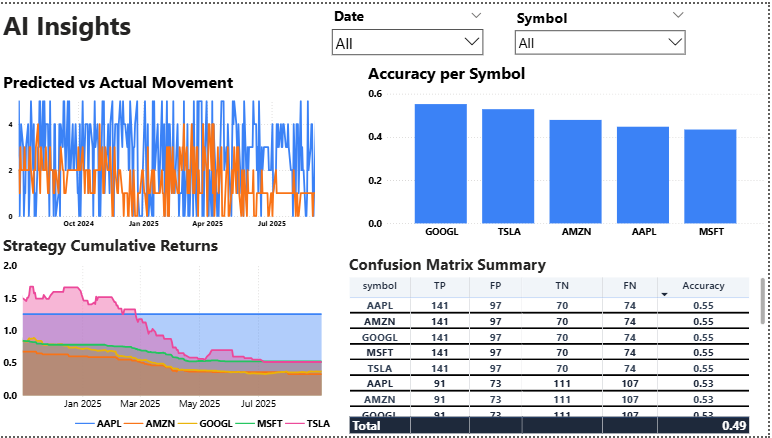

The page's visual inventory and layout, read from the dashboard file:
{"tool":"powerbi","page":{"name":"AI Insights Page","canvas":[1280,720],"ordinal":1},"visuals":[{"type":"textbox","box":[0,0,256,112],"z":0,"group":"g1"},{"type":"clusteredColumnChart","title":"Accuracy per Symbol","fields":{"Category":["AI_Metrics.Symbol"],"Y":["AI_Metrics.Avg Accuracy"]},"box":[608,96,672,304],"z":1000,"group":"g1"},{"type":"areaChart","title":"Strategy Cumulative Returns","fields":{"Category":["financial_ai_ready.date.Variation.Date Hierarchy.Year","financial_ai_ready.date.Variation.Date Hierarchy.Quarter","financial_ai_ready.date.Variation.Date Hierarchy.Month","financial_ai_ready.date.Variation.Date Hierarchy.Day"],"Series":["financial_ai_ready.symbol"],"Y":["Avg(financial_ai_ready.strategy_cumulative)"]},"box":[0,384,560,336],"z":2000,"group":"g1"},{"type":"tableEx","title":"Confusion Matrix Summary","fields":{"Values":["financial_ai_ready.symbol","AI_Metrics.TP","AI_Metrics.FP","AI_Metrics.TN","AI_Metrics.FN","AI_Metrics.Avg Accuracy"]},"box":[576,416,704,304],"z":3000,"group":"g1"},{"type":"lineChart","title":"Predicted vs Actual Movement","fields":{"Y":["Sum(financial_ai_ready.target)","Sum(financial_ai_ready.predicted_movement)"],"Category":["financial_ai_ready.date.Variation.Date Hierarchy.Year","financial_ai_ready.date.Variation.Date Hierarchy.Quarter","financial_ai_ready.date.Variation.Date Hierarchy.Month","financial_ai_ready.date.Variation.Date Hierarchy.Day"]},"box":[0,112,544,272],"z":4000,"group":"g1"},{"type":"slicer","fields":{"Values":["financial_ai_ready.date"]},"box":[544,0,272,96],"z":5000,"group":"g1"},{"type":"slicer","fields":{"Values":["financial_ai_ready.symbol"]},"box":[848,0,304,96],"z":6000,"group":"g1"},{"type":"group","id":"g1","title":"Group 1","box":[0,0,1280,720],"z":6001}]}

Visuals, with their boxes in screenshot pixels (x1, y1, x2, y2), scaled from the page's 1280x720 canvas onto the 772x438 screenshot:
textbox: x1=0, y1=0, x2=154, y2=68
"Accuracy per Symbol" clusteredColumnChart: x1=367, y1=58, x2=771, y2=243
"Strategy Cumulative Returns" areaChart: x1=0, y1=234, x2=338, y2=437
"Confusion Matrix Summary" tableEx: x1=347, y1=253, x2=771, y2=437
"Predicted vs Actual Movement" lineChart: x1=0, y1=68, x2=328, y2=234
slicer - financial_ai_ready.date: x1=328, y1=0, x2=492, y2=58
slicer - financial_ai_ready.symbol: x1=511, y1=0, x2=695, y2=58
"Group 1" group: x1=0, y1=0, x2=771, y2=437
